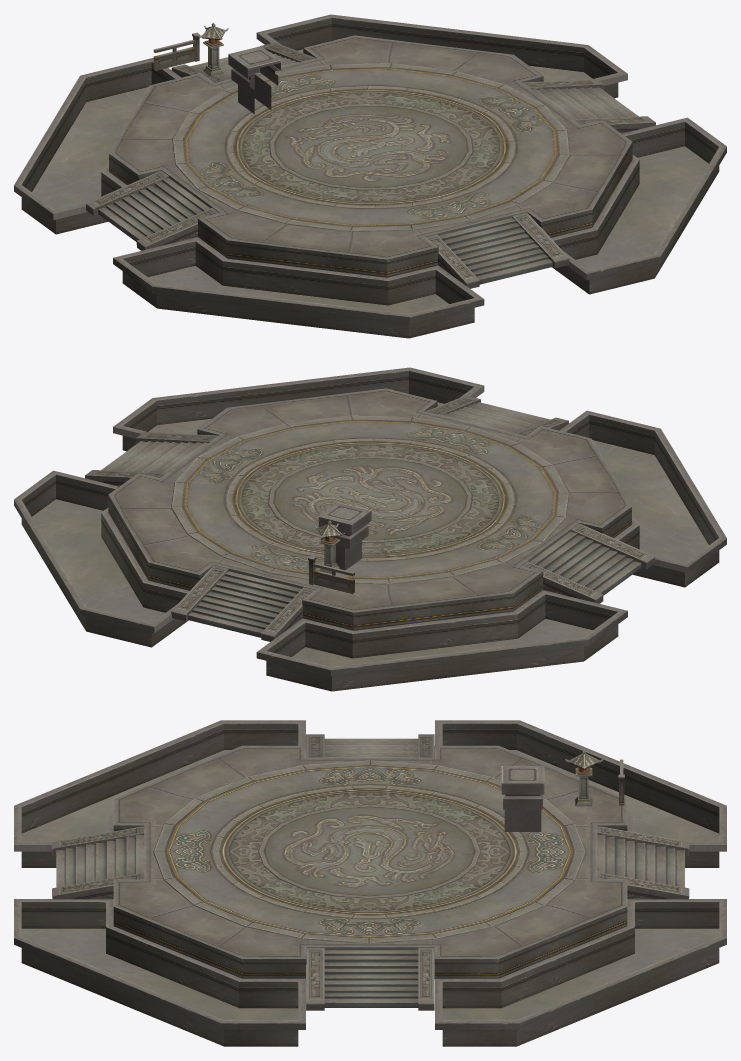
The model's file is s7_chongta_jianzhu_taizi001.FBX.
3 views of the same model, one above another, from view 1: azimuth 30°, elevation 25°; view 2: azimuth 150°, elevation 25°; view 3: azimuth 270°, elevation 25° (orthographic). The views are drawn at different scales.
Parts seen in each view (by area): view 1: s7_chongta_jianzhu_taizi001, s7_chongta_jianzhu_taizi002 (×2), s7_chongta_jianzhu_langan001, s7_chongta_jianzhu_deng001; view 2: s7_chongta_jianzhu_taizi001, s7_chongta_jianzhu_taizi002 (×2), s7_chongta_jianzhu_langan001, s7_chongta_jianzhu_deng001; view 3: s7_chongta_jianzhu_taizi001, s7_chongta_jianzhu_taizi002 (×2), s7_chongta_jianzhu_deng001.
Part boxes in pixels (box(x1,y1,x2,y2)): s7_chongta_jianzhu_taizi001: box(86, 35, 655, 288); s7_chongta_jianzhu_taizi002 (×2): box(14, 14, 726, 338); s7_chongta_jianzhu_langan001: box(153, 40, 194, 70); s7_chongta_jianzhu_deng001: box(198, 23, 228, 76); s7_chongta_jianzhu_taizi001: box(85, 388, 655, 641); s7_chongta_jianzhu_taizi002 (×2): box(14, 367, 726, 691); s7_chongta_jianzhu_langan001: box(313, 563, 354, 593); s7_chongta_jianzhu_deng001: box(314, 520, 344, 573); s7_chongta_jianzhu_taizi001: box(52, 734, 689, 1010); s7_chongta_jianzhu_taizi002 (×2): box(14, 720, 726, 1046); s7_chongta_jianzhu_deng001: box(565, 749, 602, 806).
Bounding box in the file's own units: 50.12 × 9.14 × 49.86.
